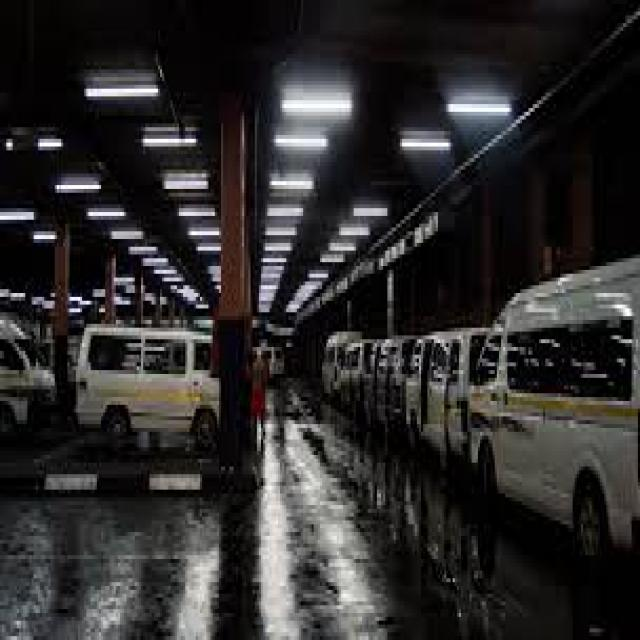MiniBus taxi: (467, 239, 638, 578), (72, 320, 230, 451)
